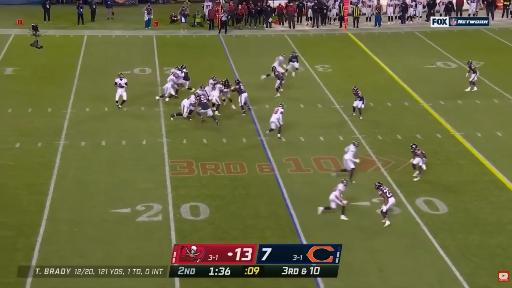Helmet: (375, 181, 383, 189), (223, 78, 230, 85), (179, 64, 186, 70), (352, 141, 359, 147), (341, 180, 349, 185), (235, 79, 241, 85), (173, 72, 179, 78), (410, 144, 417, 149), (353, 86, 358, 92), (467, 60, 472, 65), (212, 76, 217, 81), (119, 73, 123, 78), (200, 85, 205, 89), (291, 51, 296, 55), (195, 92, 199, 97), (272, 67, 276, 71), (279, 104, 284, 107), (175, 66, 179, 69), (282, 54, 285, 57)
Jersey: (330, 184, 346, 199), (168, 69, 183, 82), (344, 144, 357, 159), (271, 107, 283, 123), (198, 95, 210, 110), (211, 82, 223, 97), (379, 186, 393, 198), (182, 95, 197, 106), (234, 83, 246, 96), (115, 78, 127, 90), (412, 149, 426, 159), (273, 56, 285, 67), (354, 91, 364, 103), (207, 79, 217, 90), (274, 70, 283, 82), (182, 68, 190, 81), (288, 54, 299, 63), (197, 88, 207, 97), (468, 64, 477, 74), (386, 0, 394, 11), (204, 2, 212, 13), (408, 0, 415, 12), (223, 82, 231, 92), (416, 0, 423, 11)
Player: (318, 180, 348, 219), (375, 182, 395, 227), (338, 141, 359, 182), (156, 67, 181, 101), (171, 93, 198, 120), (232, 80, 250, 115), (197, 95, 218, 124), (267, 104, 284, 138), (410, 144, 426, 180), (209, 81, 223, 116), (221, 79, 235, 109), (115, 73, 127, 108), (178, 65, 194, 91), (465, 61, 478, 91), (353, 87, 365, 119), (272, 67, 284, 96), (286, 52, 299, 76), (272, 54, 285, 73), (206, 76, 217, 96), (407, 0, 415, 23), (387, 0, 394, 24), (394, 0, 401, 23), (416, 0, 423, 22), (197, 85, 209, 97), (203, 2, 212, 14)
